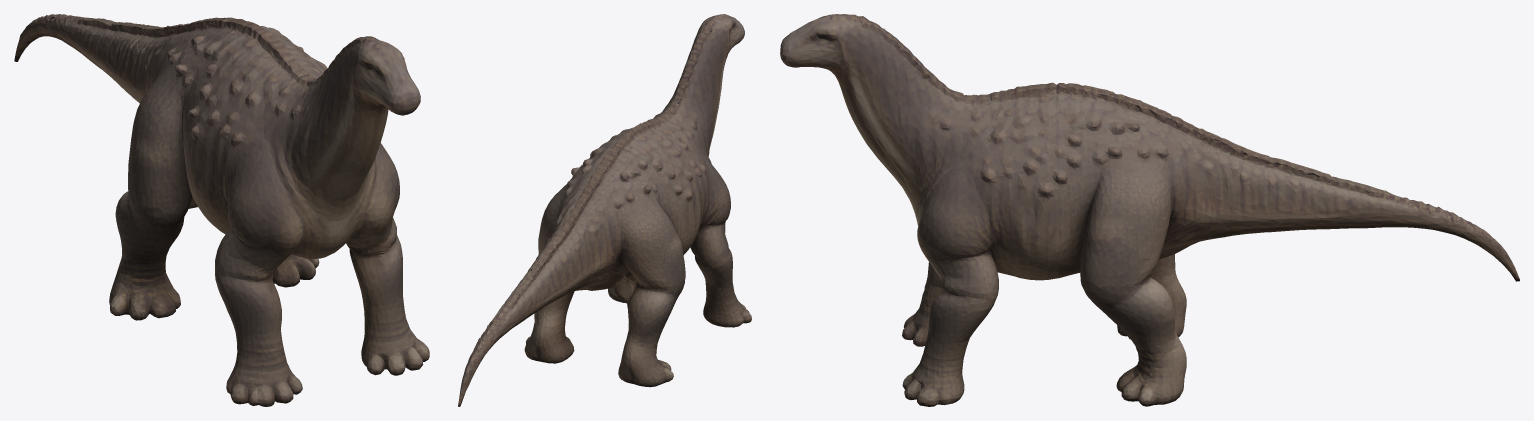
3 renders of one model, left to right at view 1: azimuth 30°, elevation 25°; view 2: azimuth 150°, elevation 25°; view 3: azimuth 270°, elevation 25°, orthographic. The views are drawn at different scales.
Parts seen in each view (by area): view 1: world; view 2: world; view 3: world.
Part boxes in pixels (<box>): world: <box>14,14,429,406</box>; world: <box>458,14,751,406</box>; world: <box>780,14,1519,406</box>.
Bounding box in the file's own units: 0.3023 × 0.522 × 1.
1 material, 1 textured.
